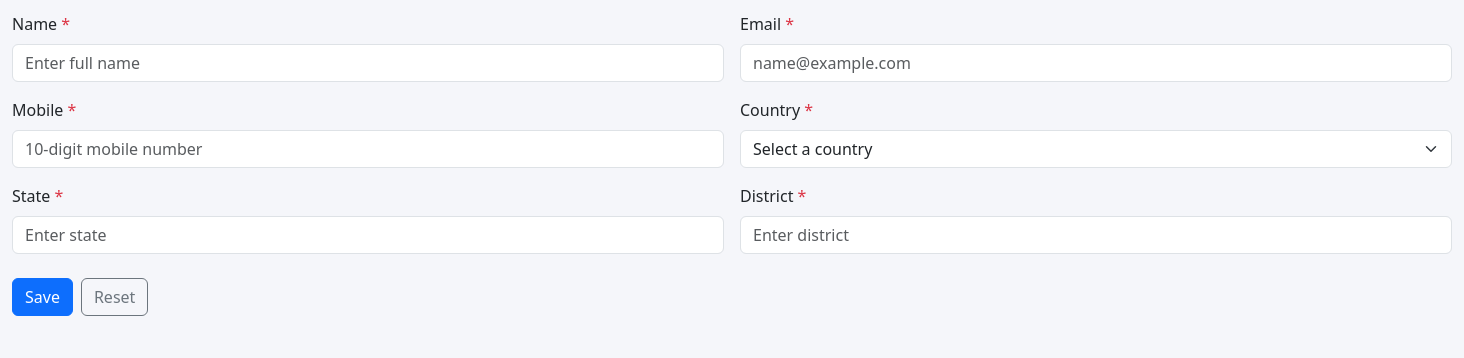
Test: EmployeeForm › rejects a name that is too short
Type "Jo" into the field labelled "Name *" at (368, 63), box [12,44,724,82]
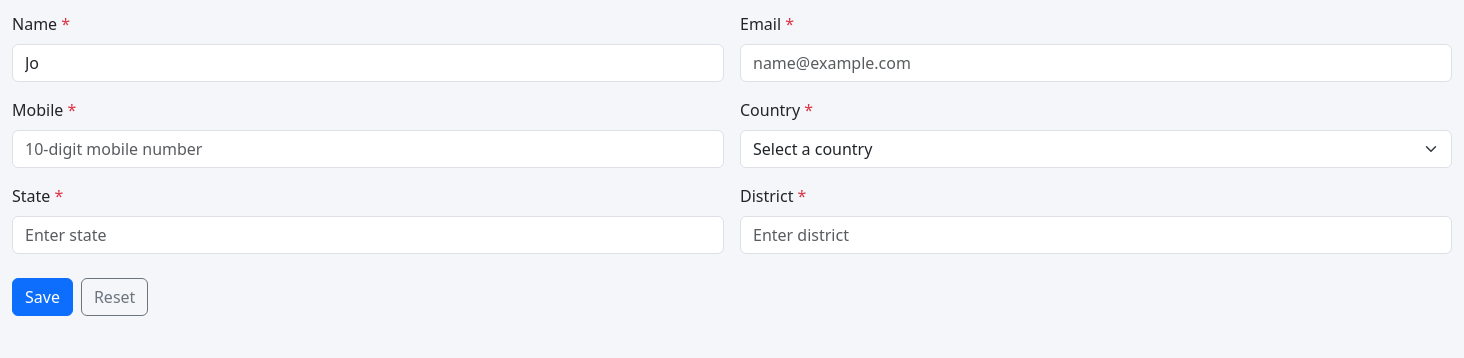
Leave the field labelled "Name *", box [12,44,724,82]
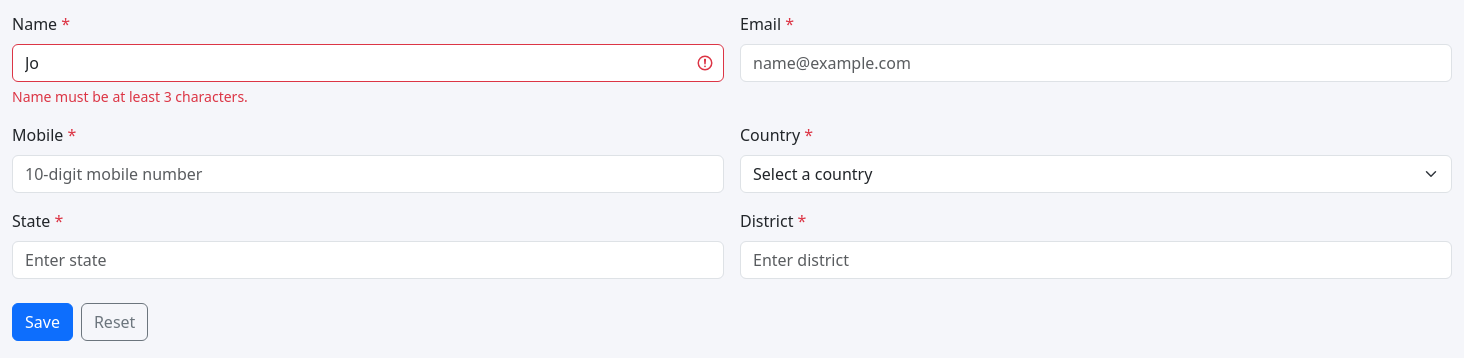
Check: the text "Name must be at least 3 characters." is shown, box [12,87,248,106]
